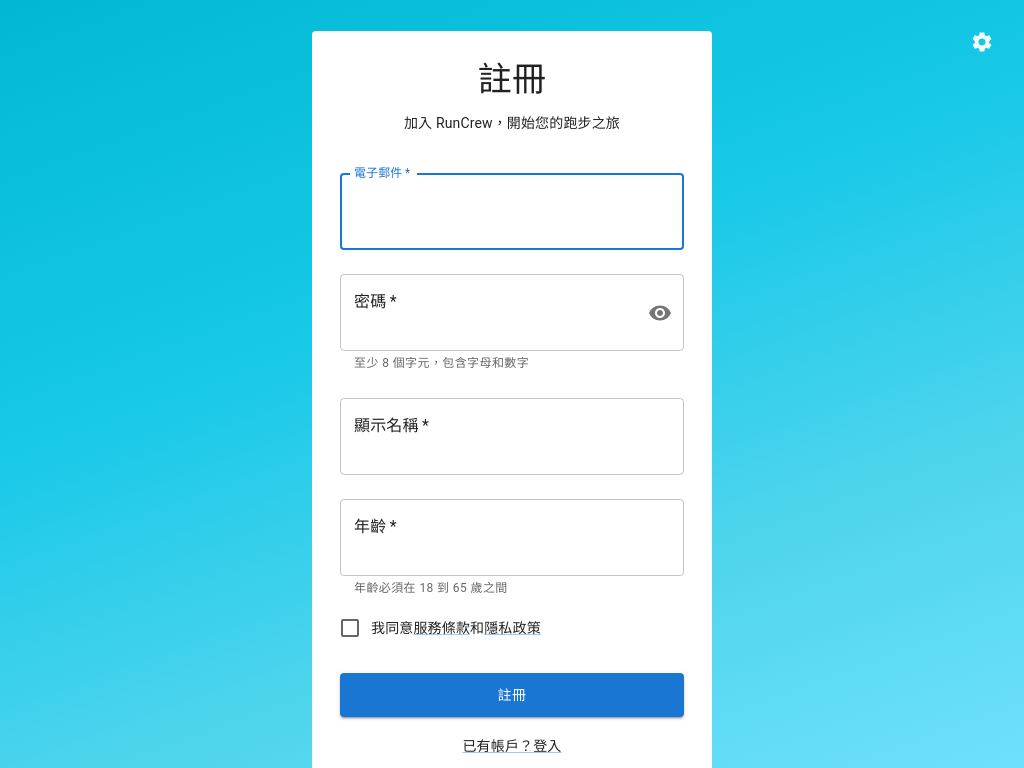
Test: RegisterPage › validates password requirements
Fill email first so validation focuses on password
Type "test@example.com" into the field labelled "電子郵件 *" at x=512, y=212, box x1=340 y1=173 x2=684 y2=250
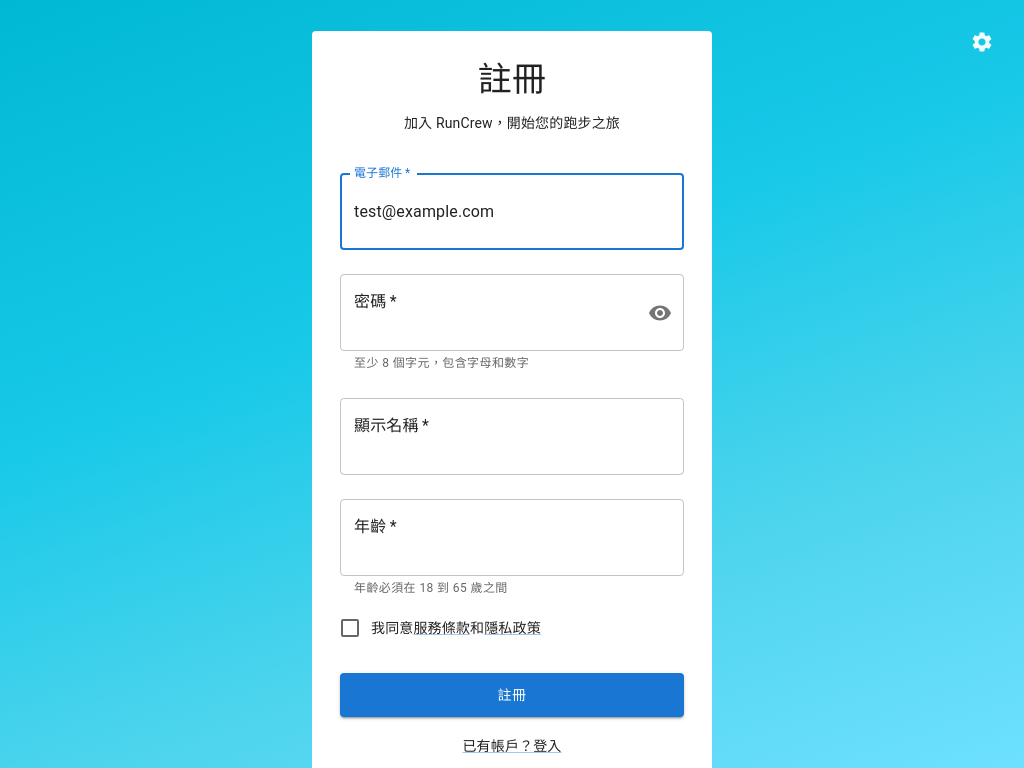
Test short password
Type "short" into the password field labelled "密碼 *" at x=485, y=312, box x1=340 y1=274 x2=630 y2=351
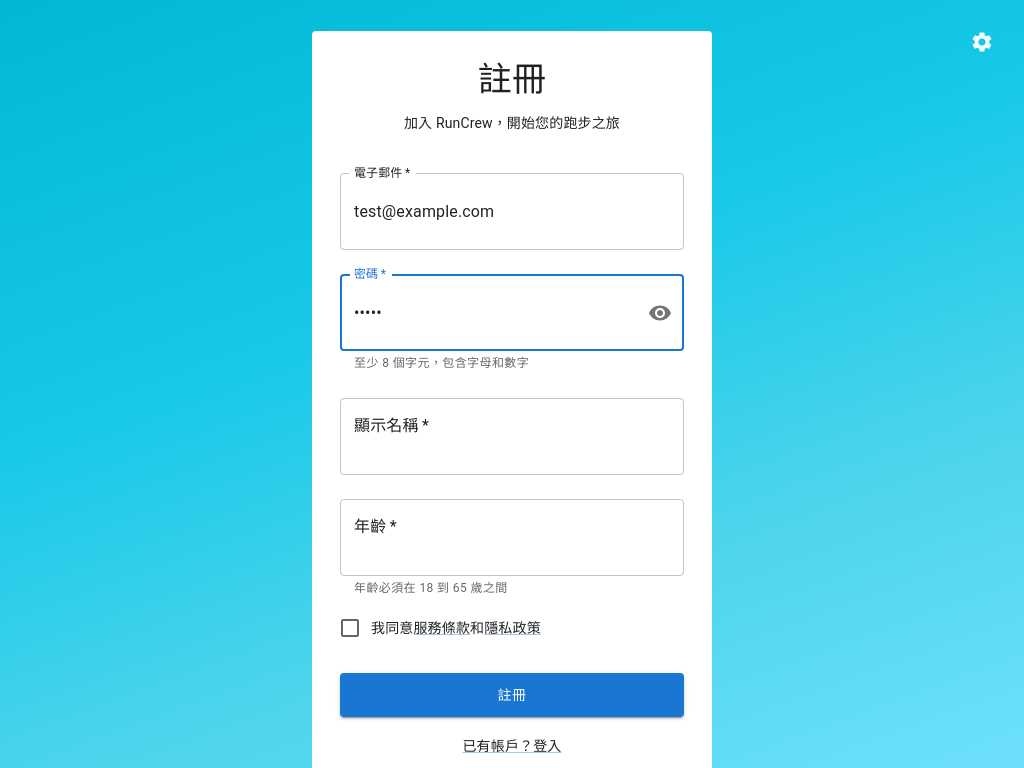
Click the button "註冊" at x=512, y=695, box x1=340 y1=673 x2=684 y2=717
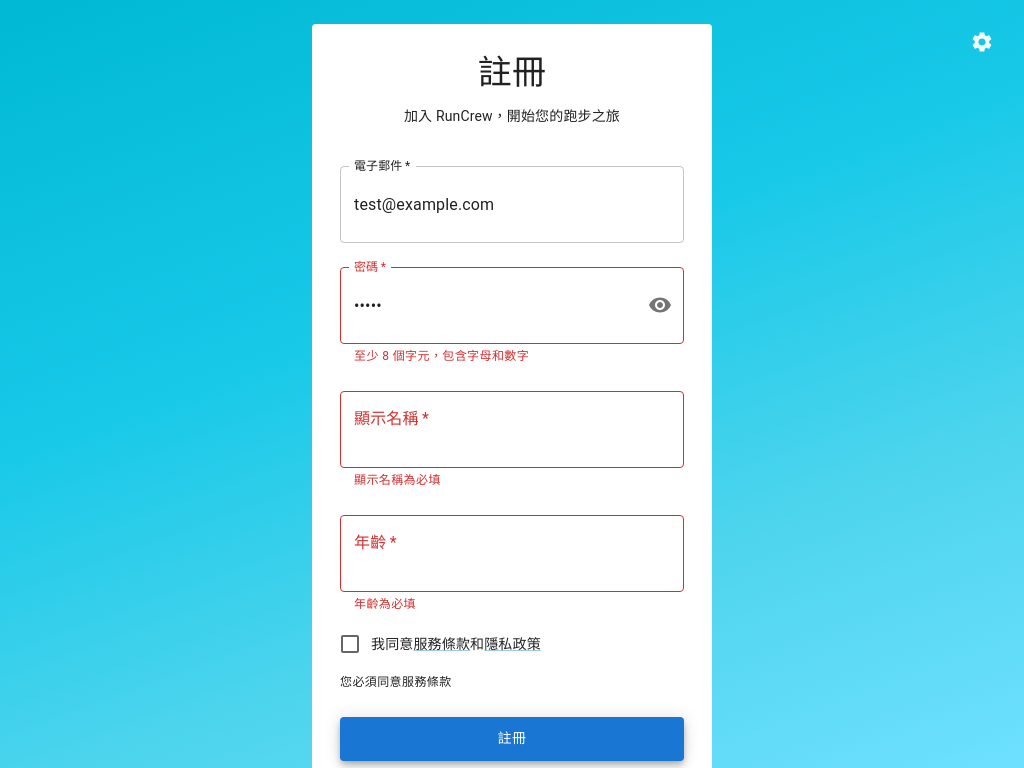
Expected: the text "至少 8 個字元，包含字母和數字" is shown, x1=354 y1=349 x2=529 y2=363
Clear and test password without numbers
Type "onlyletters" into the password field labelled "密碼 *" at x=485, y=305, box x1=340 y1=267 x2=630 y2=344
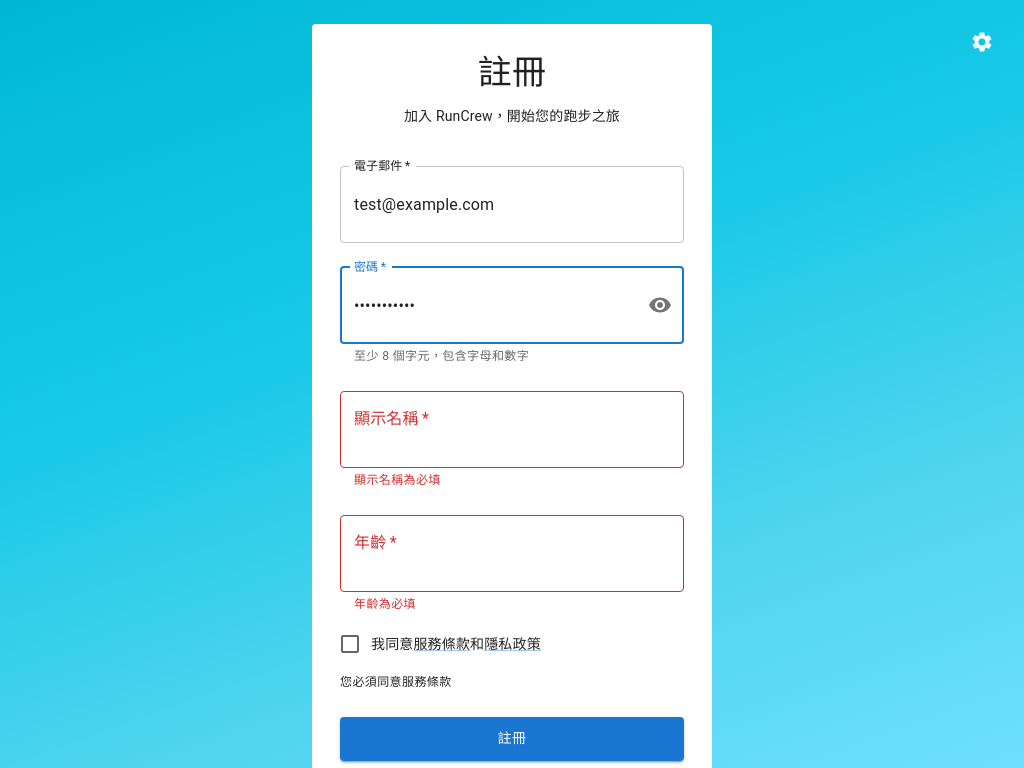
Click the button "註冊" at x=512, y=738, box x1=340 y1=716 x2=684 y2=760
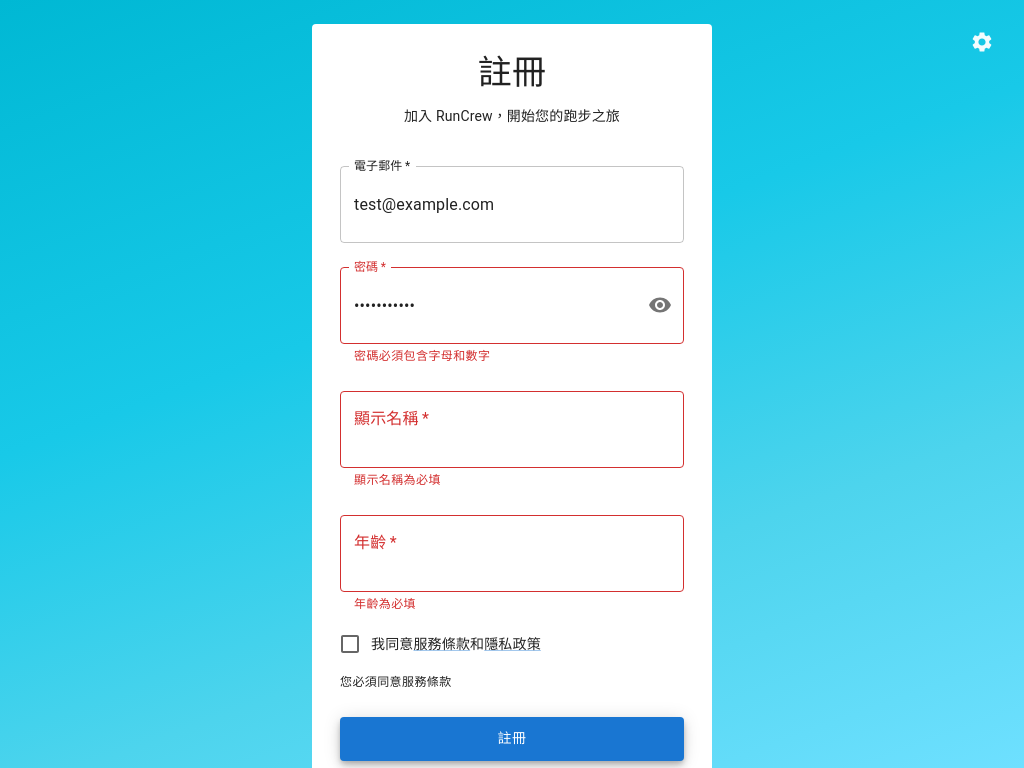
Result: the text "密碼必須包含字母和數字" is shown at x1=354 y1=349 x2=490 y2=363
